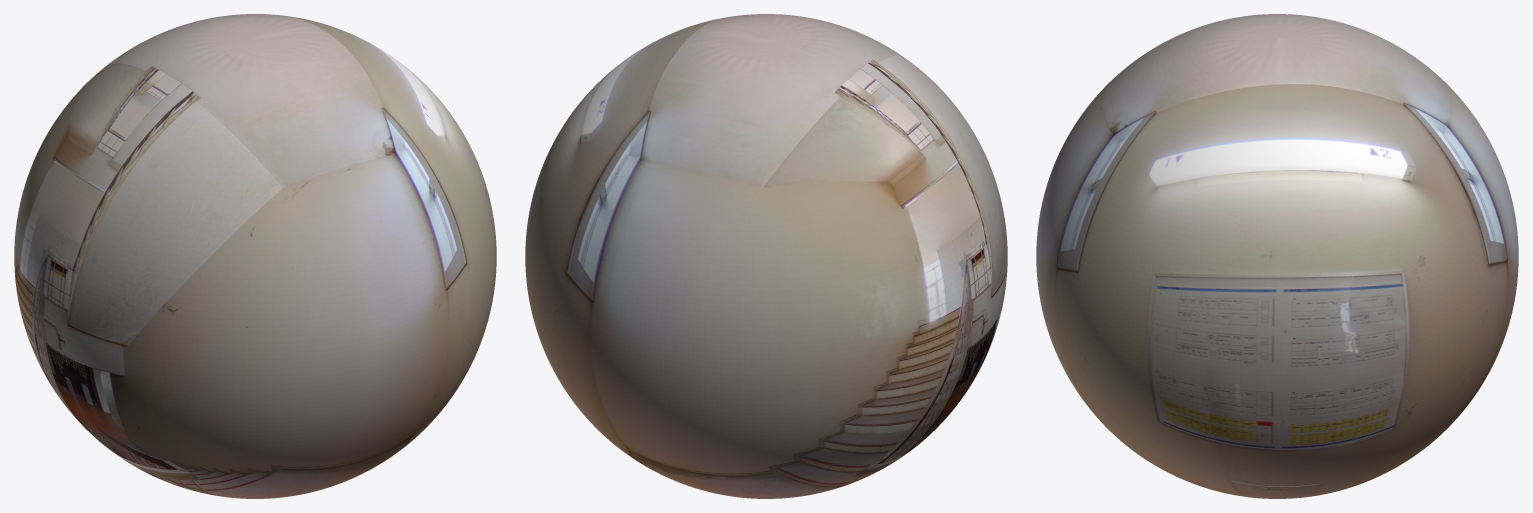
The model's file is kaidan1to2.fbx.
3 renders of one model, left to right at view 1: azimuth 30°, elevation 25°; view 2: azimuth 150°, elevation 25°; view 3: azimuth 270°, elevation 25°, orthographic.
Visible parts, largest first — view 1: 球; view 2: 球; view 3: 球.
Part boxes in pixels (box(x1,y1,x2,y2)): 球: box(14, 14, 496, 498); 球: box(525, 14, 1007, 498); 球: box(1036, 14, 1518, 498).
Size of the model in its own units: 197 by 196 by 197.
1 material, 1 textured.
